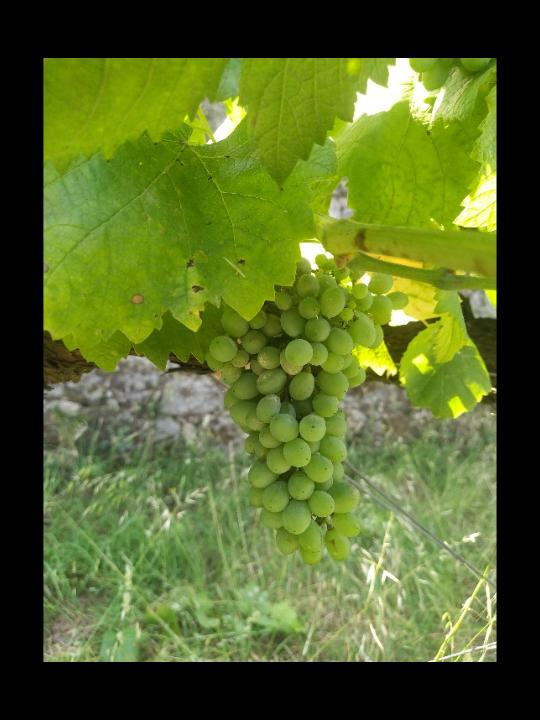grape: (205, 253, 414, 571)
